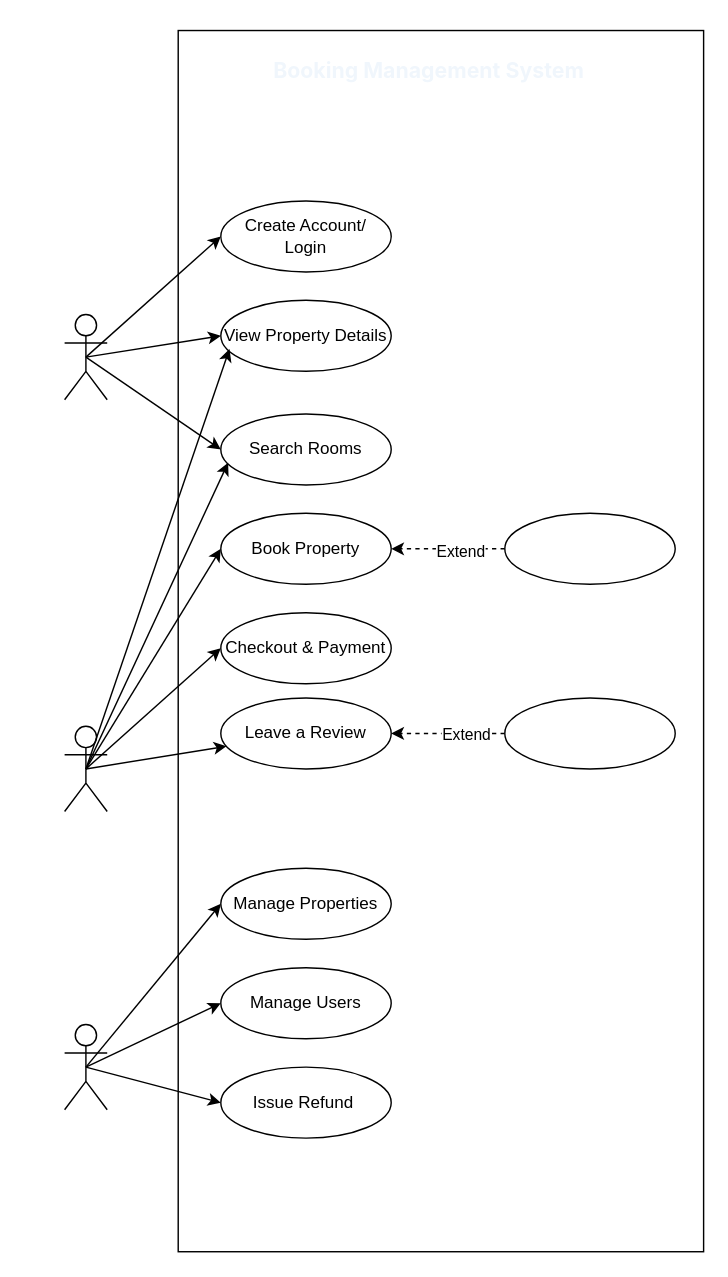
Image size: 728x1277. Some labels were removed from this diagram. The centre of each missing label's shape, as x and y in pixels:
"Admin" belongs at [85,1066].
"Guest" belongs at [85,356].
"Registered User" belongs at [85,768].
"View /Modify/ Cancel Booking" belongs at [589,548].
"View /Modify/ Delete Review" belongs at [589,733].
